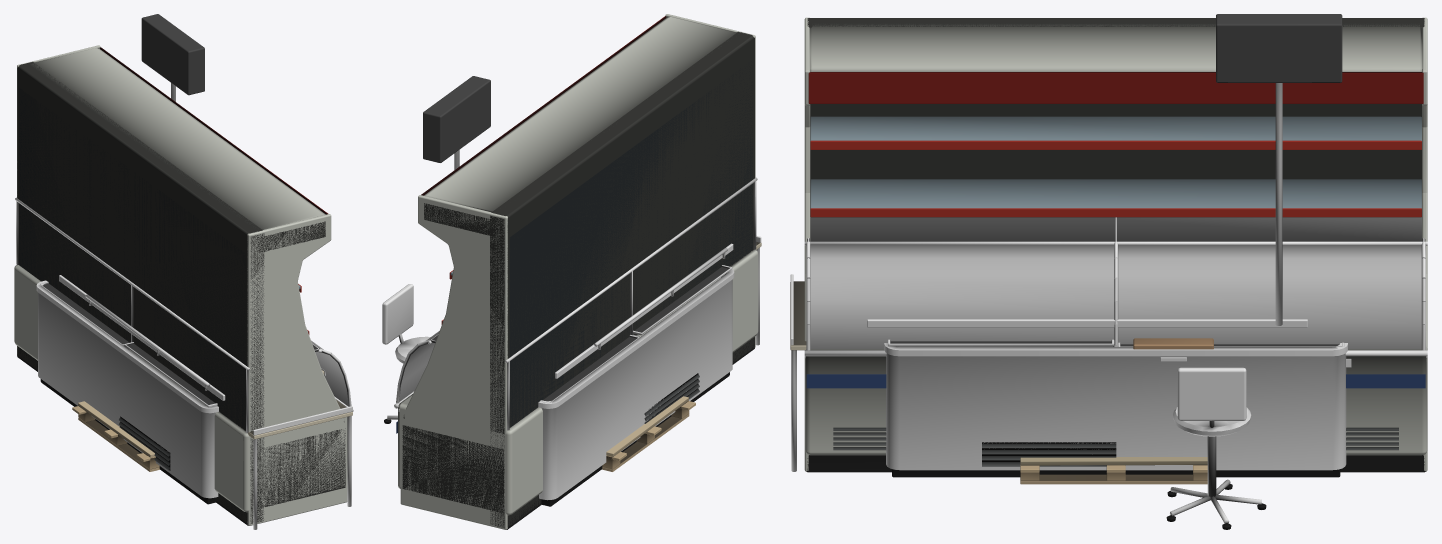
File: equip.glb
3 views of the same model, side by side, from view 1: azimuth 30°, elevation 25°; view 2: azimuth 150°, elevation 25°; view 3: azimuth 270°, elevation 25° (orthographic). The views are drawn at different scales.
Parts seen in each view (by area): view 1: dairy_3250, chest, frozen_3250, checkout, pallet; view 2: dairy_3250, chest, frozen_3250, checkout, pallet; view 3: dairy_3250, frozen_3250, chest, checkout, pallet.
Boxes of the visible parts, x1,y1,x2,y2 form: dairy_3250: (17, 45, 347, 525); chest: (36, 280, 218, 504); frozen_3250: (14, 197, 353, 525); checkout: (59, 14, 352, 529); pallet: (72, 401, 159, 471); dairy_3250: (398, 14, 755, 529); chest: (538, 265, 734, 506); frozen_3250: (394, 177, 758, 529); checkout: (382, 76, 761, 423); pallet: (602, 396, 695, 471); dairy_3250: (804, 17, 1427, 471); frozen_3250: (804, 217, 1427, 472); chest: (884, 339, 1347, 477); checkout: (790, 14, 1342, 529); pallet: (1020, 457, 1207, 484).
Size of the model in its own units: 1.72 by 2.64 by 3.33.
